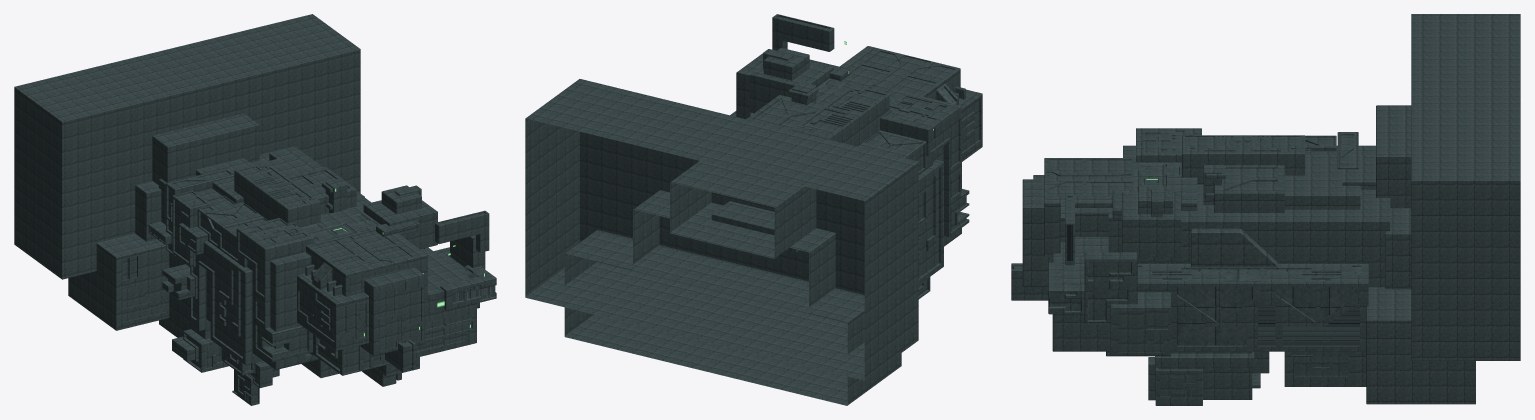
Rendered from EngineRemake_Exterior_Main.fbx.
The picture shows the model from 3 angles, left to right: view 1: azimuth 30°, elevation 25°; view 2: azimuth 150°, elevation 25°; view 3: azimuth 270°, elevation 25°; orthographic projection. The views are drawn at different scales.
Parts seen in each view (by area): view 1: Cube.10820, Cube.10819, Cube.10794, ExteriorPiece.030, Cube.10788, ExteriorPiece.031, Cube.10786, Cube.10821, Cube.10793, Cube.10792, Cube.10797, Cube.10789 (+18 smaller); view 2: Cube.10820, Cube.10819, Cube.10821, ExteriorPiece.031, Cube.10785, Cube.10794, Cube.10797, Cube.10788, ExteriorPiece.033, Cube.10781, Cube.10789, ExteriorPiece.039 (+4 smaller); view 3: Cube.10820, Cube.10786, ExteriorPiece.030, Cube.10819, Cube.10794, Cube.10797, ExteriorPiece.032, ExteriorPiece.037, Cube.10821, Cube.10783, ExteriorPiece.039, ExteriorPiece.033 (+15 smaller).
Boxes of the visible parts, x1=… form: Cube.10820: x1=14, y1=14, x2=360, y2=279; Cube.10819: x1=68, y1=191, x2=364, y2=330; Cube.10794: x1=300, y1=206, x2=427, y2=302; ExteriorPiece.030: x1=159, y1=146, x2=371, y2=369; Cube.10788: x1=190, y1=241, x2=262, y2=364; ExteriorPiece.031: x1=236, y1=218, x2=313, y2=362; Cube.10786: x1=311, y1=247, x2=476, y2=375; Cube.10821: x1=152, y1=113, x2=259, y2=185; Cube.10793: x1=360, y1=267, x2=424, y2=355; Cube.10792: x1=297, y1=273, x2=368, y2=350; Cube.10797: x1=234, y1=162, x2=320, y2=227; Cube.10789: x1=197, y1=195, x2=267, y2=267; Cube.10820: x1=525, y1=79, x2=918, y2=380; Cube.10819: x1=564, y1=230, x2=901, y2=405; Cube.10821: x1=670, y1=161, x2=816, y2=258; ExteriorPiece.031: x1=880, y1=92, x2=969, y2=236; Cube.10785: x1=633, y1=190, x2=835, y2=312; Cube.10794: x1=816, y1=46, x2=960, y2=105; Cube.10797: x1=792, y1=85, x2=889, y2=146; Cube.10788: x1=918, y1=160, x2=943, y2=284; ExteriorPiece.033: x1=750, y1=60, x2=833, y2=113; Cube.10781: x1=772, y1=14, x2=834, y2=51; Cube.10789: x1=858, y1=130, x2=932, y2=174; ExteriorPiece.039: x1=746, y1=95, x2=824, y2=130; Cube.10820: x1=1411, y1=14, x2=1520, y2=360; Cube.10786: x1=1052, y1=208, x2=1368, y2=351; ExteriorPiece.030: x1=1123, y1=145, x2=1390, y2=386; Cube.10819: x1=1366, y1=287, x2=1475, y2=404; Cube.10794: x1=1044, y1=158, x2=1197, y2=256; Cube.10797: x1=1182, y1=135, x2=1305, y2=184; ExteriorPiece.032: x1=1284, y1=155, x2=1375, y2=209; ExteriorPiece.037: x1=1110, y1=292, x2=1170, y2=356; Cube.10821: x1=1376, y1=105, x2=1411, y2=207; Cube.10783: x1=1084, y1=252, x2=1137, y2=324; ExteriorPiece.039: x1=1214, y1=165, x2=1284, y2=212; ExteriorPiece.033: x1=1122, y1=192, x2=1181, y2=257.
Bounding box in the file's own units: 8156 × 6215 × 10532.
3 materials, 2 textured.
